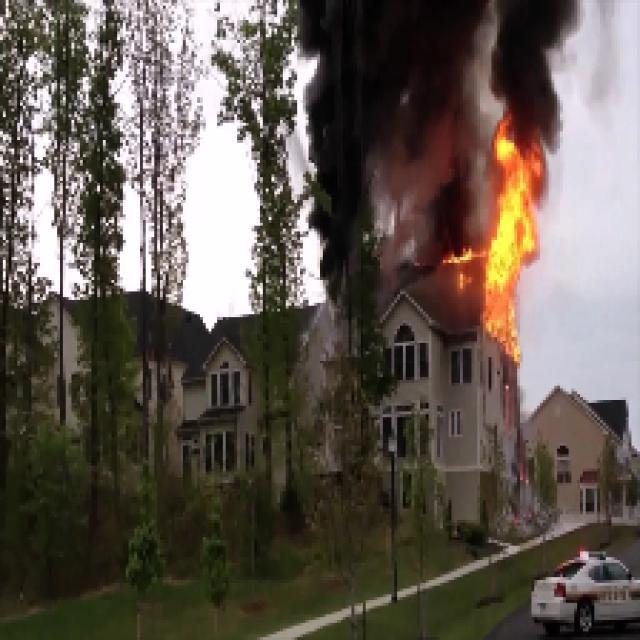Fire: (488, 146, 536, 330)
Smoke: (314, 7, 476, 251), (496, 2, 558, 128)
